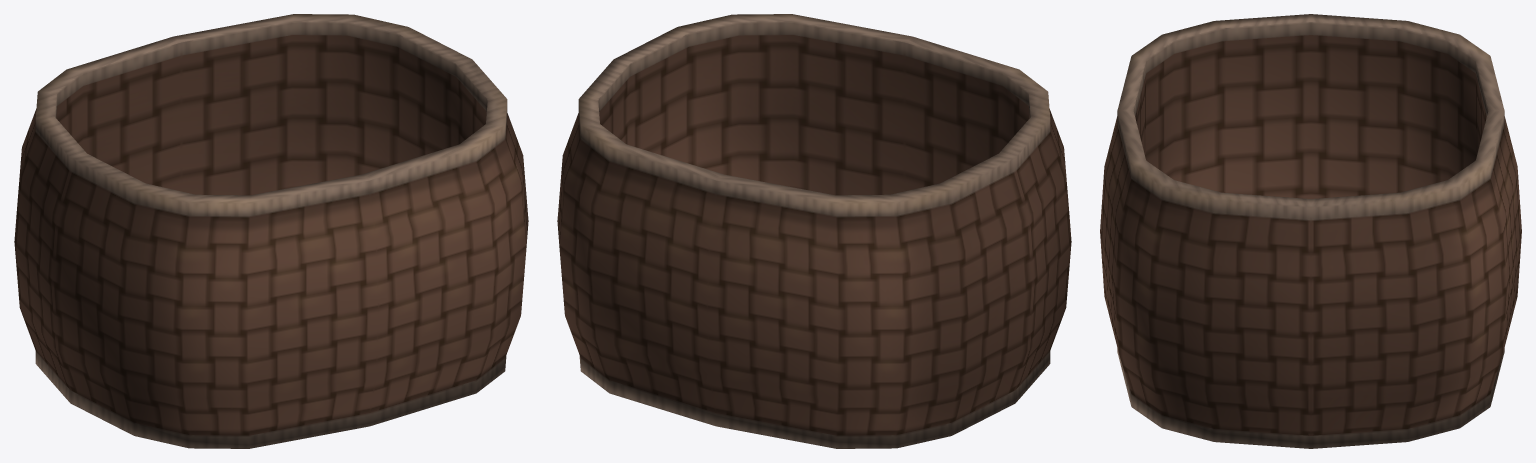
Rendered from BO_Sin1_basket.FBX.
3 renders of one model, left to right at view 1: azimuth 30°, elevation 25°; view 2: azimuth 150°, elevation 25°; view 3: azimuth 270°, elevation 25°, orthographic.
Size of the model in its own units: 63.39 by 33.98 by 53.71.
